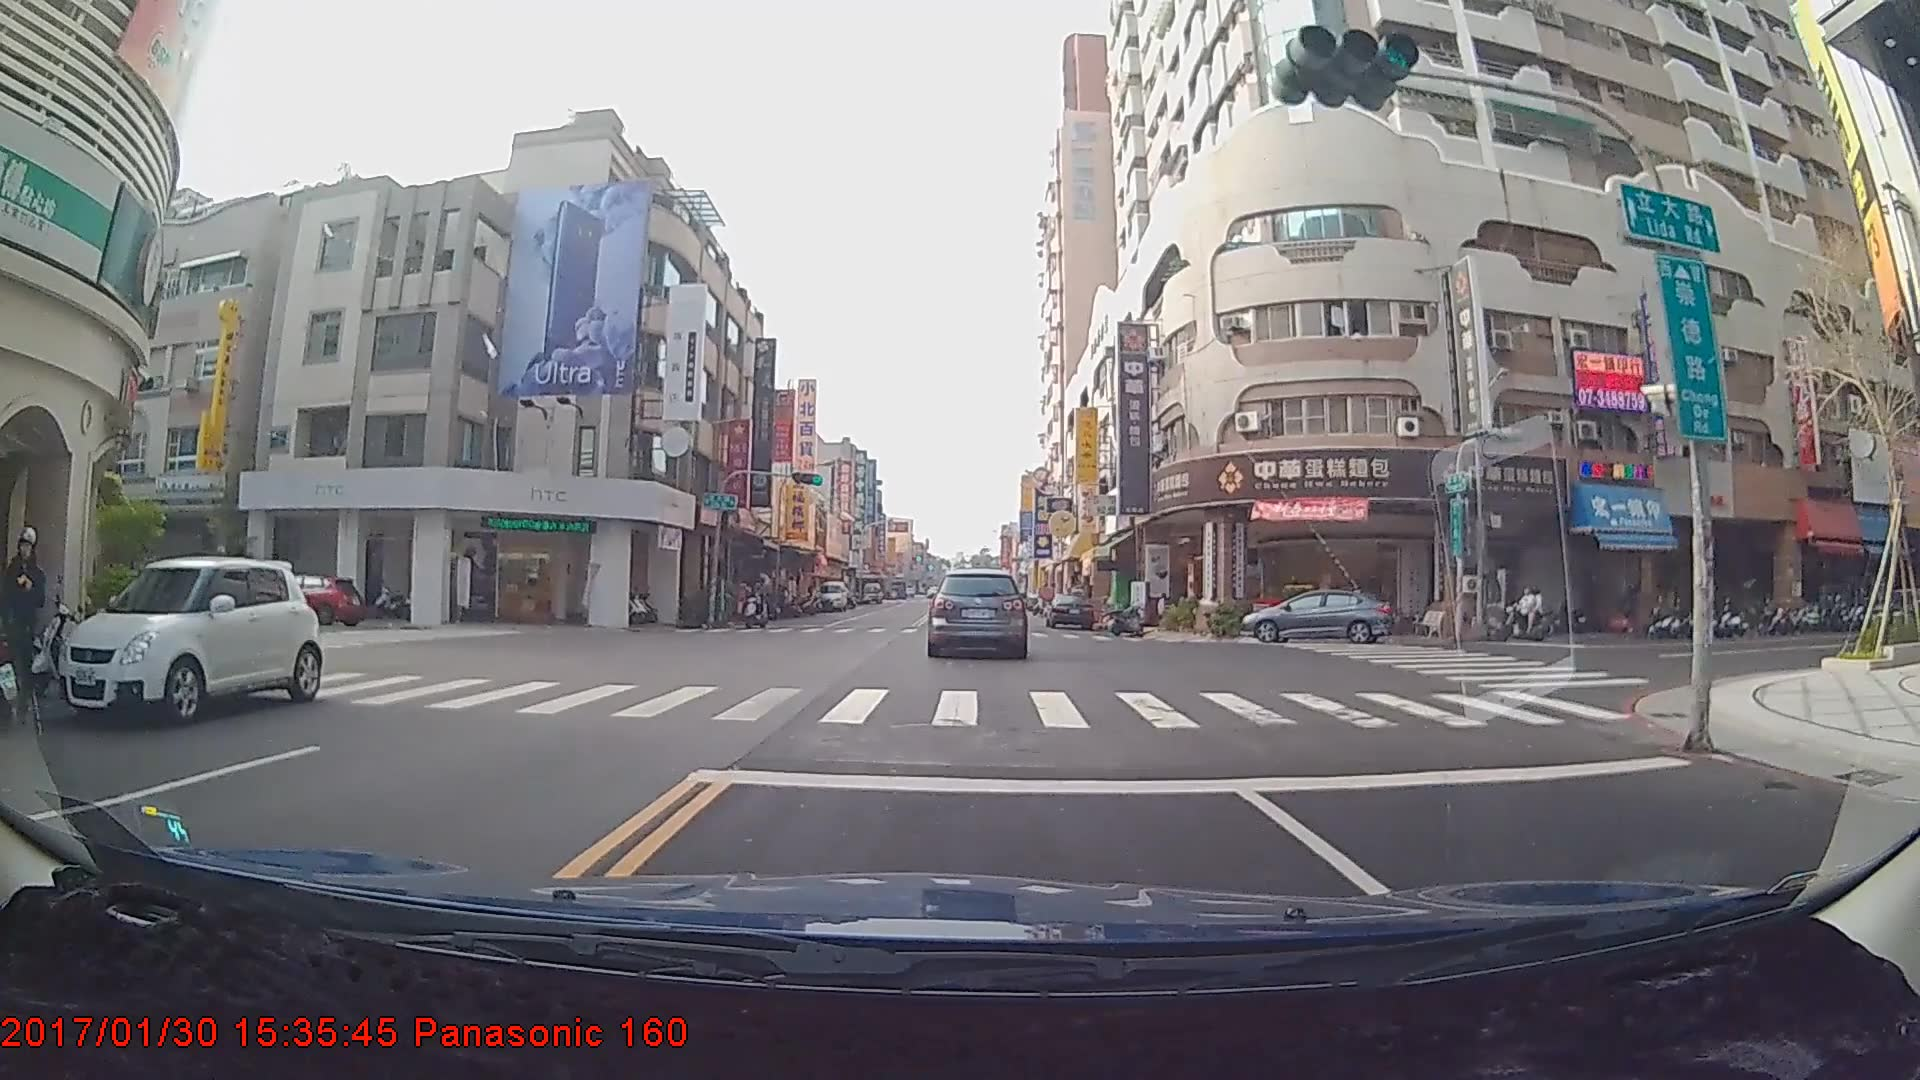pedestrian: (0, 526, 49, 705)
rider: (1495, 588, 1554, 643), (737, 578, 771, 634)
vehicle: (66, 557, 323, 720), (927, 569, 1027, 658), (1238, 588, 1394, 644), (247, 573, 365, 630), (1045, 595, 1094, 632), (814, 582, 848, 614)
